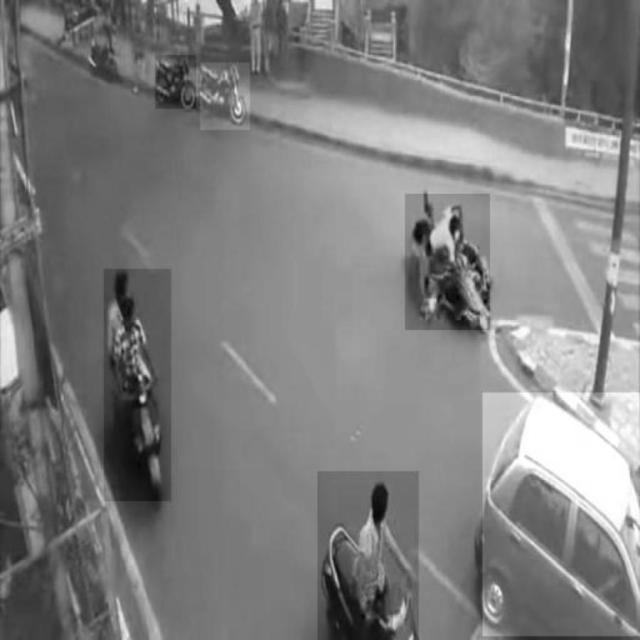accident: (406, 194, 490, 330)
vehicle: (483, 393, 640, 636), (318, 471, 419, 639), (104, 269, 171, 501), (200, 63, 250, 130), (155, 55, 196, 109)
